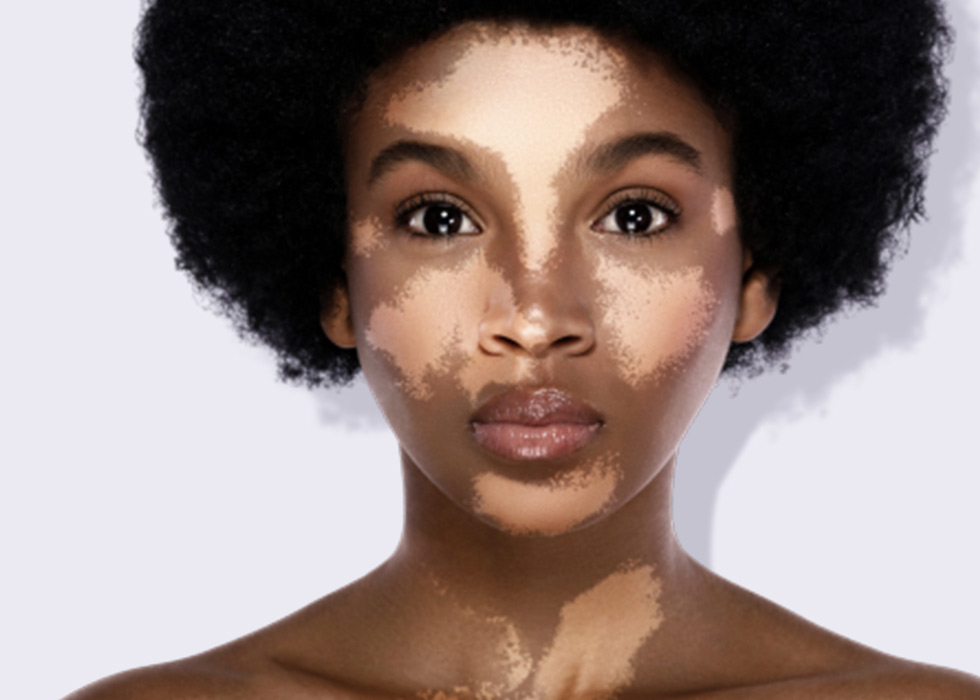Vitiligo: (345, 33, 760, 544)
